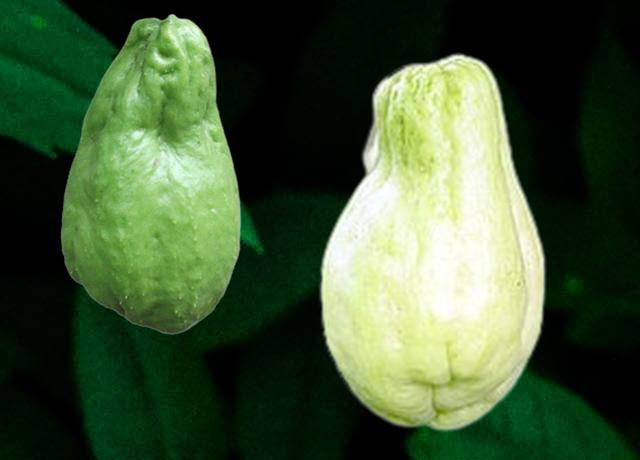sayote: (318, 52, 545, 431), (60, 13, 240, 333)
